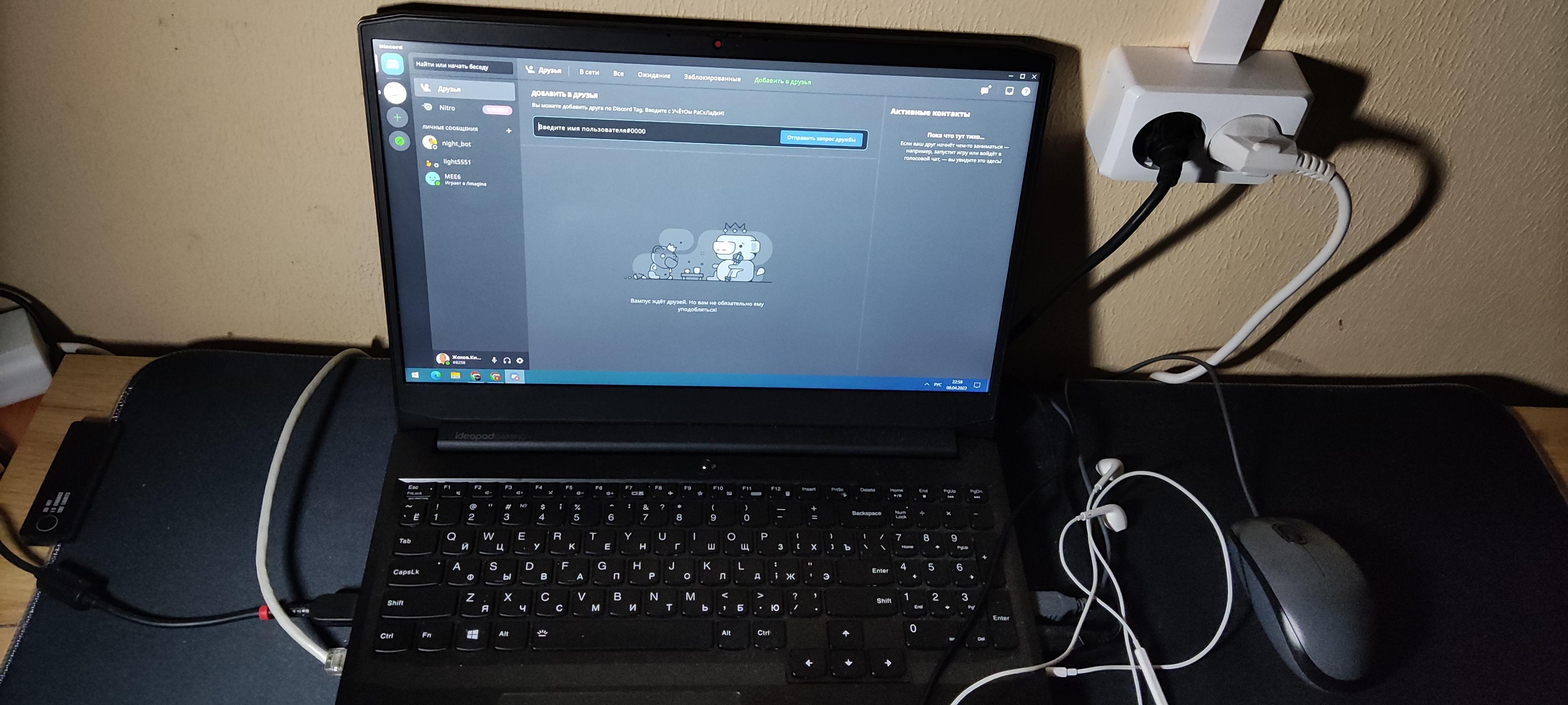monitor: (355, 13, 1062, 437)
